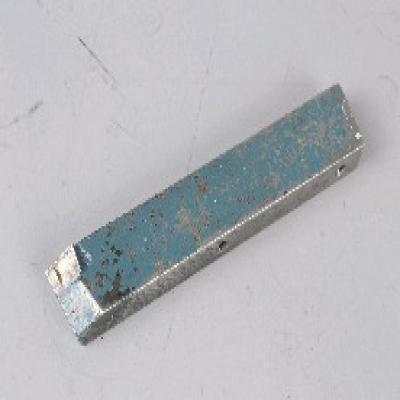technique: (43, 85, 367, 346)
